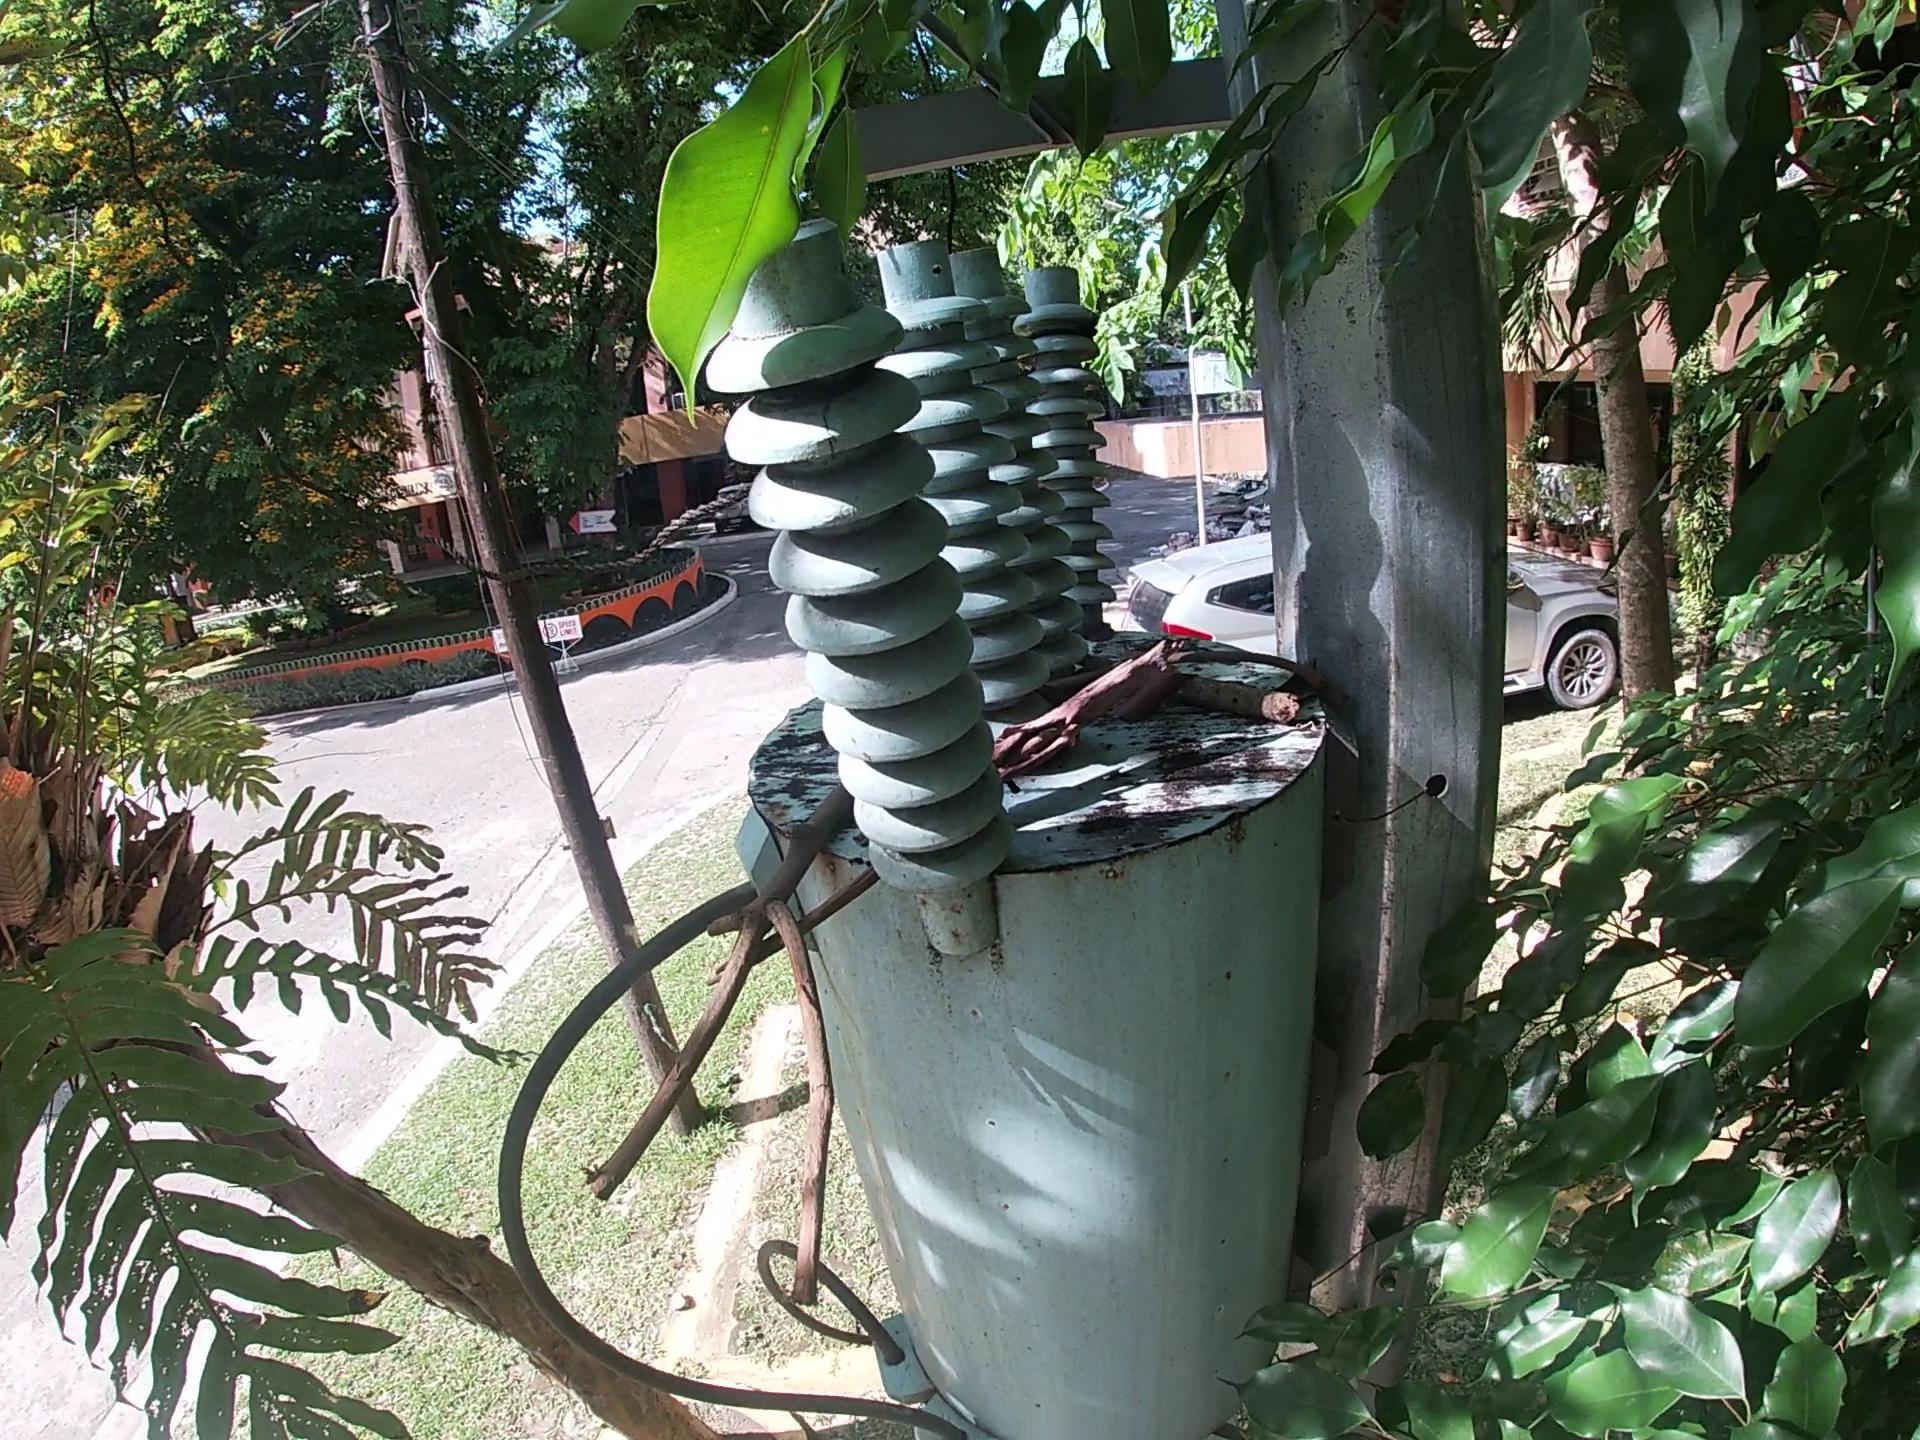tree branch: (588, 790, 856, 1333), (1001, 628, 1191, 774), (1045, 658, 1332, 731), (1017, 646, 1339, 694)
